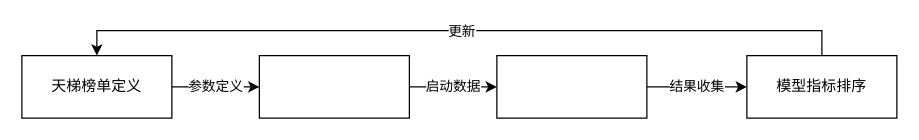
Some shapes in this 919 by 140 pixel diagram are drawn without their labels. Here are the shapes that lost their labels. From the top down, the centre of each, then its label:
At (x=333, y=86): "天梯模型提交".
At (x=571, y=86): "模型评估启动".
